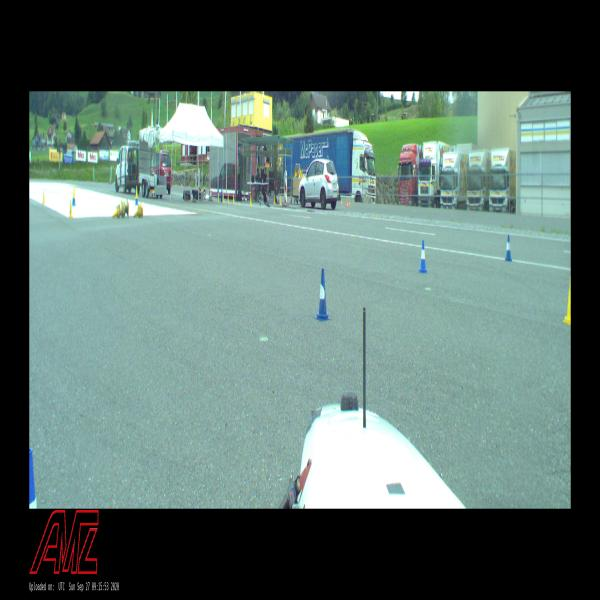blue_cone: (315, 269, 330, 321), (29, 448, 38, 508), (419, 240, 427, 273), (505, 235, 512, 261)
yellow_cone: (563, 274, 571, 325), (112, 206, 120, 218), (69, 199, 74, 218), (133, 205, 140, 218), (42, 191, 46, 205), (72, 185, 76, 198), (135, 185, 138, 198), (227, 193, 229, 204), (274, 194, 276, 204), (250, 196, 252, 206), (232, 194, 234, 204), (222, 193, 224, 202), (218, 193, 220, 202), (280, 196, 281, 205)
